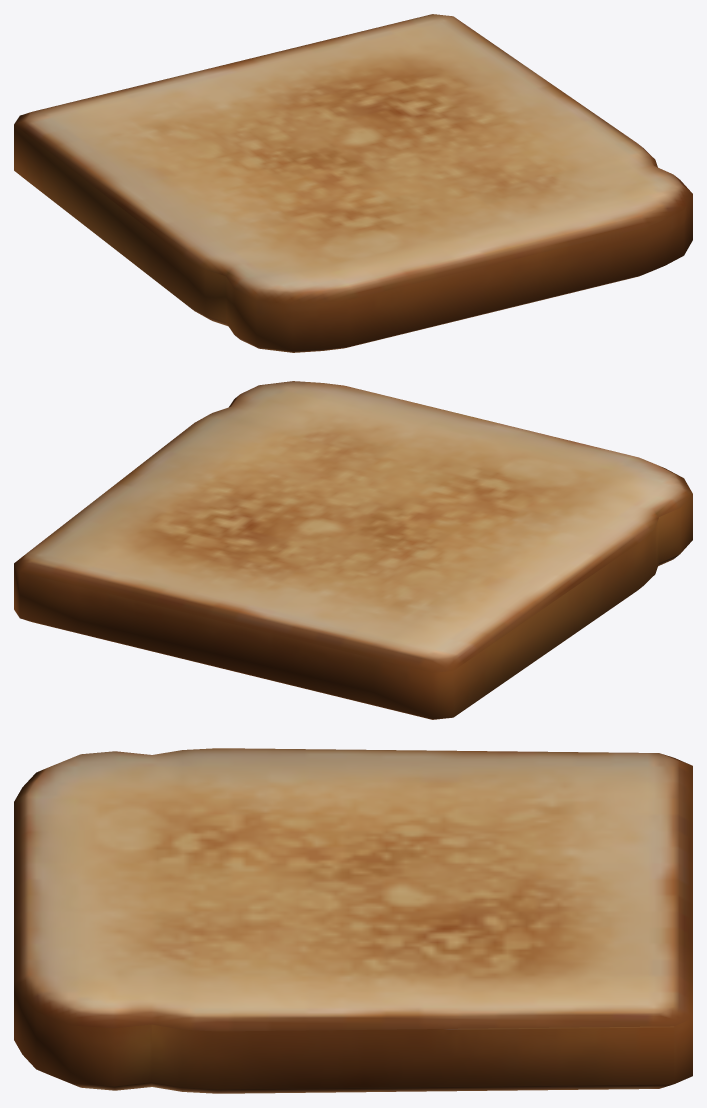
Rendered from BBQToast.obj.
The picture shows the model from 3 angles, top to bottom: view 1: azimuth 30°, elevation 25°; view 2: azimuth 150°, elevation 25°; view 3: azimuth 270°, elevation 25°; orthographic projection. The views are drawn at different scales.
Visible parts, largest first — view 1: mbp; view 2: mbp; view 3: mbp.
Boxes of the visible parts, <box> form: mbp: <box>14,14,692,352</box>; mbp: <box>14,381,692,719</box>; mbp: <box>14,748,692,1093</box>.
Size of the model in its own units: 1.5 by 0.1878 by 1.55.
